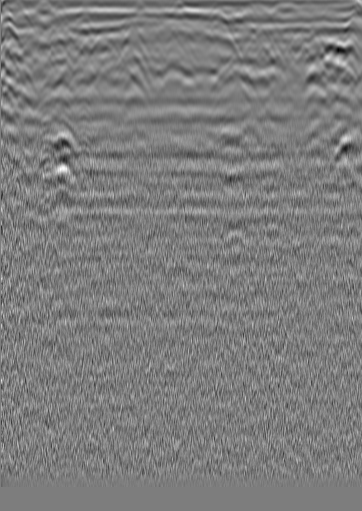가스: (209, 135, 257, 164)
상수: (298, 28, 327, 54)
오수: (2, 24, 22, 44)
우수: (117, 21, 150, 51)
